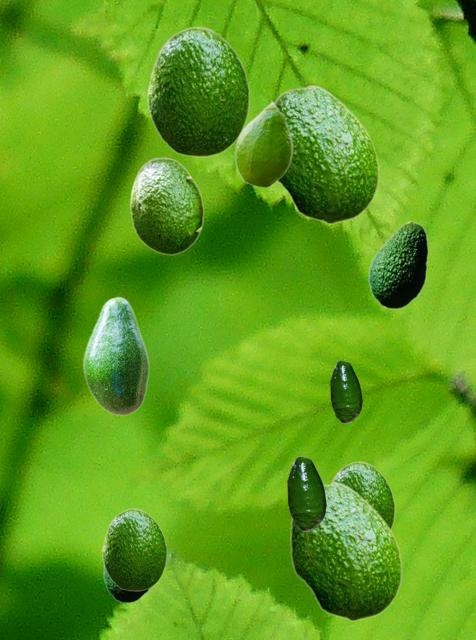avocado: (289, 481, 401, 620), (275, 84, 378, 223), (147, 26, 249, 156), (82, 296, 148, 415), (129, 157, 203, 254), (102, 508, 166, 590), (368, 221, 427, 308), (234, 100, 292, 187), (331, 461, 394, 528), (287, 456, 325, 530), (330, 360, 361, 422), (103, 566, 150, 602)
